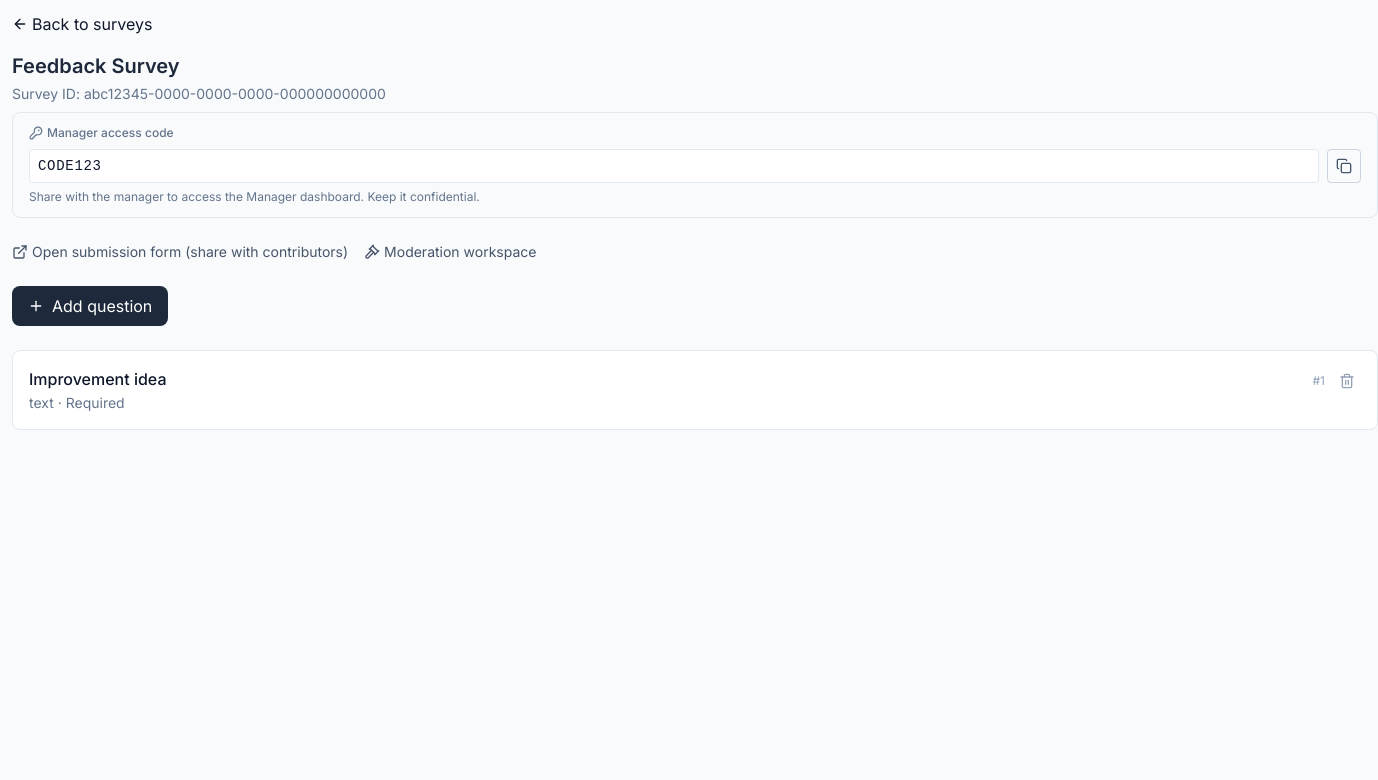
Test: SurveyDetail › shows Add question form when Add question button is clicked
This screenshot has width=1378, height=780.
Click the button "Add question" at (90, 306), box [12,286,168,326]
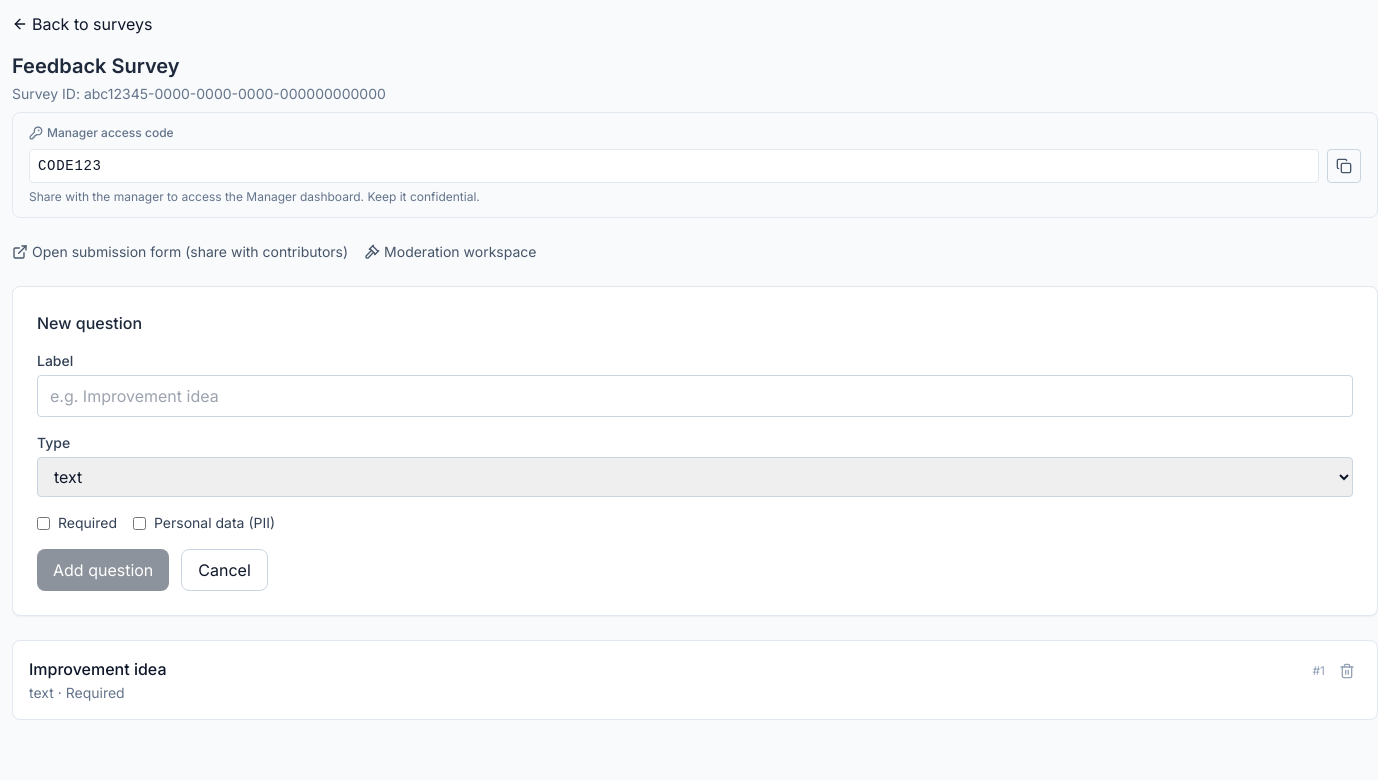
Expected: the heading "New question" is shown, [37,313,142,333]
Expected: the field with placeholder "e.g. Improvement idea" is shown, [37,375,1353,417]
Expected: the dropdown is shown, [37,457,1353,497]
